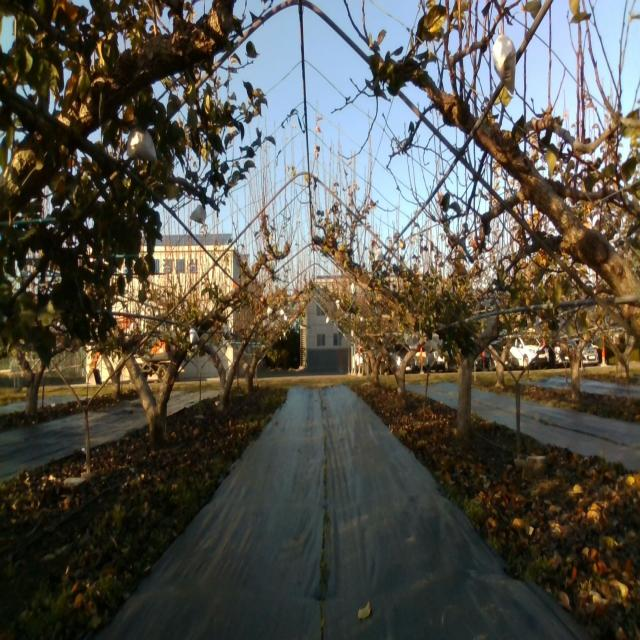pearbags: (492, 26, 516, 95), (126, 125, 158, 163), (190, 204, 207, 226)
